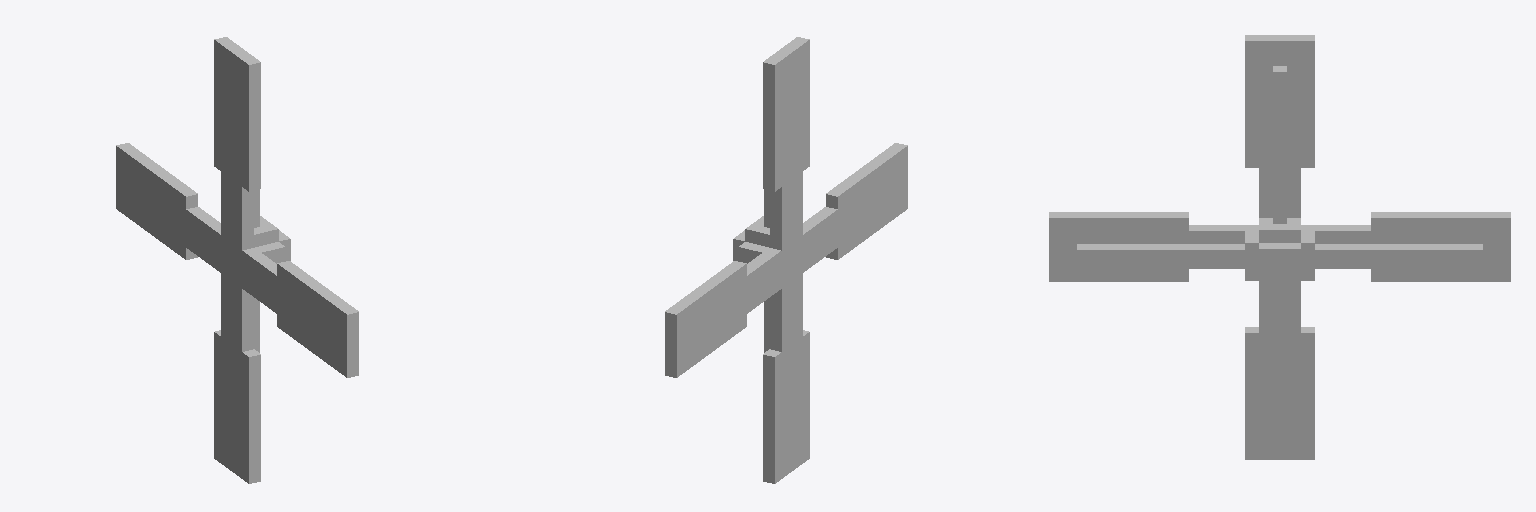
File: windmill propeller.obj
3 views of the same model, side by side, from view 1: azimuth 30°, elevation 25°; view 2: azimuth 150°, elevation 25°; view 3: azimuth 270°, elevation 25° (orthographic).
Visible parts, largest first — view 1: default; view 2: default; view 3: default.
Part boxes in pixels (x1,y1,x2,y2): default: (116,37,358,483); default: (665,37,907,483); default: (1049,35,1510,459).
Bounding box in the file's own units: 4 × 33 × 33.